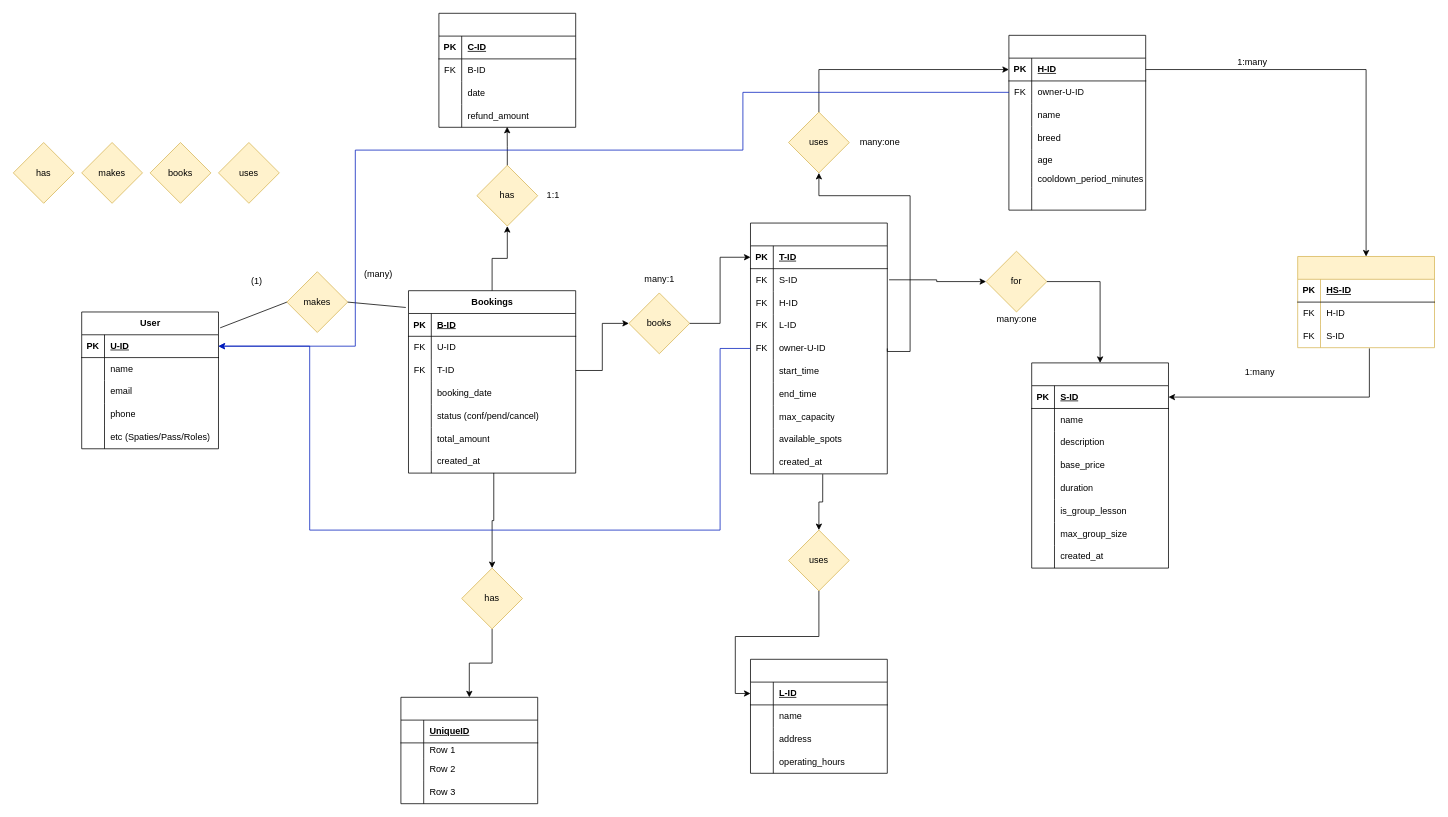
The diagram is 1448 pixels wide and 817 high, and some of its shapes have lost their labels. Each missing label, with the box of its shape:
Cancellation: (438, 13, 576, 127)
Horse_Services: (1297, 256, 1434, 348)
Horses: (1008, 35, 1146, 210)
Location: (750, 659, 887, 773)
Payments: (400, 697, 538, 804)
Services: (1031, 362, 1168, 568)
Timeslots: (750, 222, 887, 474)
